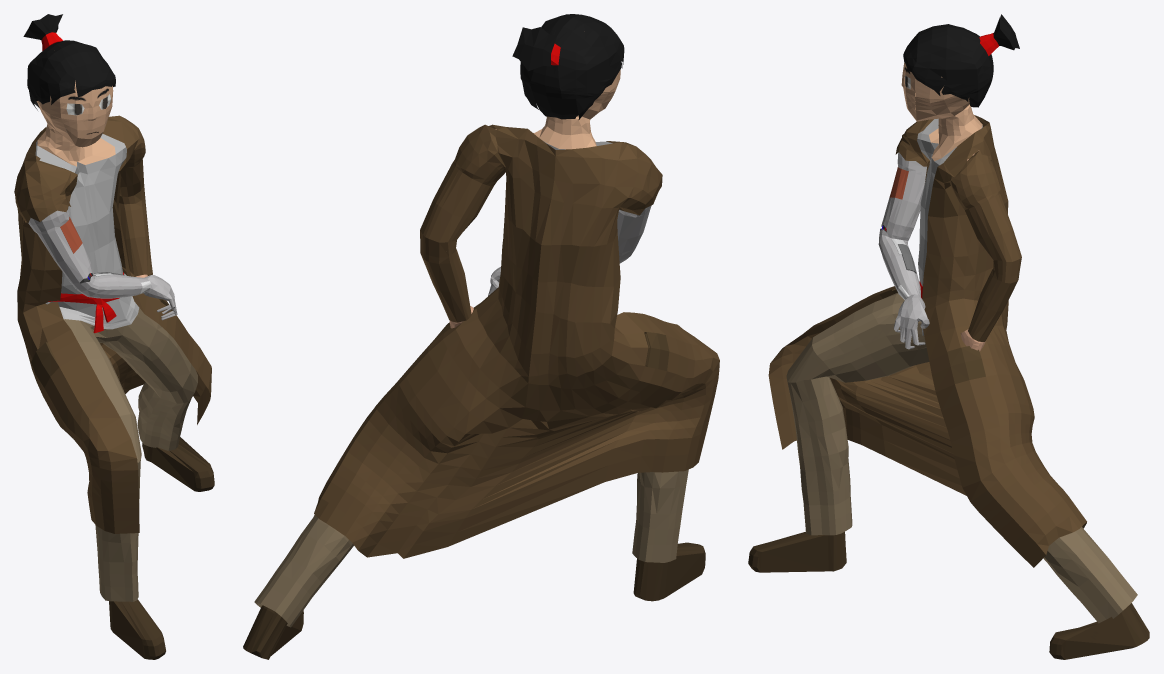
The model's file is One_RL_000010.obj.
3 views of the same model, side by side, from view 1: azimuth 30°, elevation 25°; view 2: azimuth 150°, elevation 25°; view 3: azimuth 270°, elevation 25° (orthographic). The views are drawn at different scales.
Parts seen in each view (by area): view 1: Hair_Cube.004; view 2: Hair_Cube.004; view 3: Hair_Cube.004.
Part boxes in pixels (x1,y1,x2,y2): Hair_Cube.004: [14, 14, 214, 659]; Hair_Cube.004: [243, 14, 719, 659]; Hair_Cube.004: [748, 14, 1149, 659].
Bounding box in the file's own units: 1.69 × 3.47 × 2.26.
